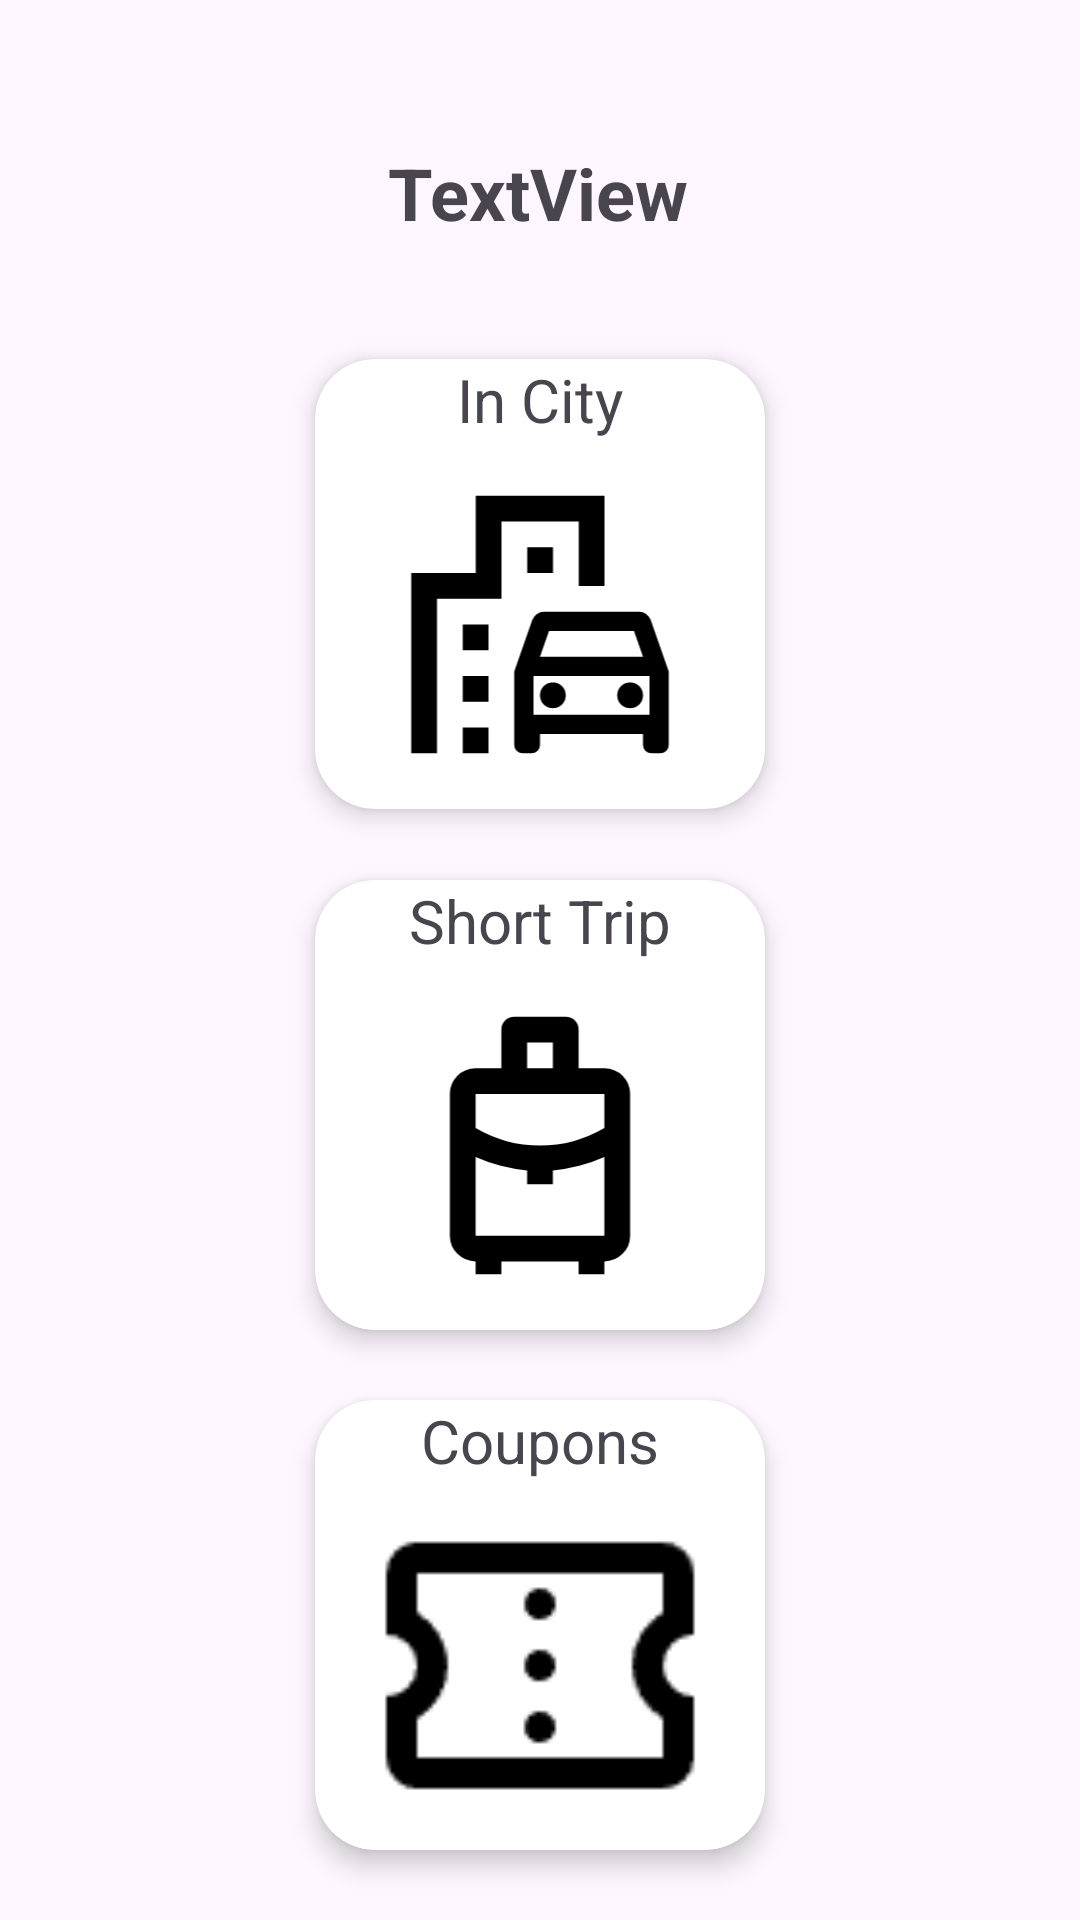

Icon click points for this 1080 x 1920 phone screenshot, format point (x, y):
screen out city: point (540, 1145)
